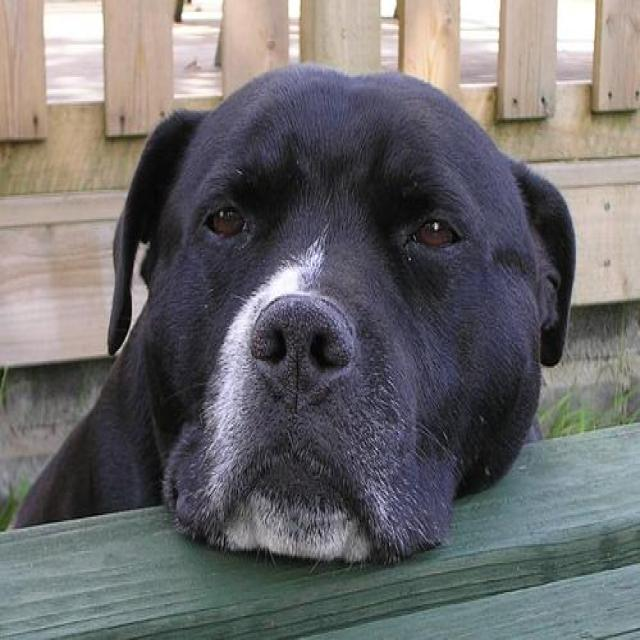staffordshire_bullterrier: (6, 60, 584, 573)
